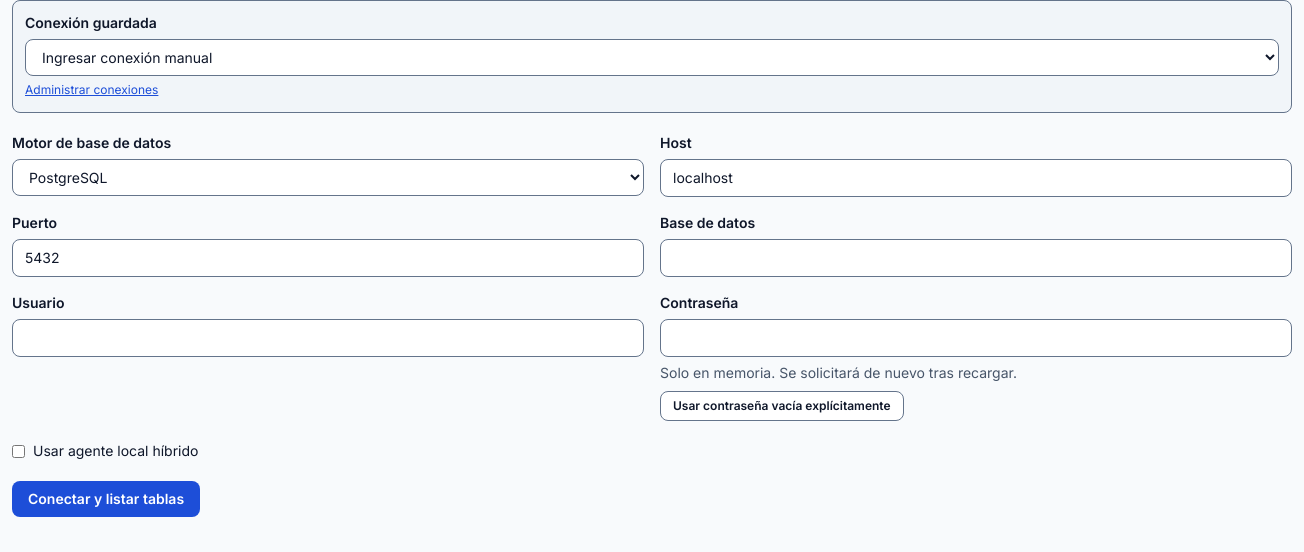
Test: saved connections and account boundaries › uses only a connection reference and bearer, without receiving a password
The width and height of the screenshot is (1304, 552).
Select "Origen registrado · postgresql" in the dropdown labelled "Conexión guardada" at (652, 58), box [25,39,1279,76]
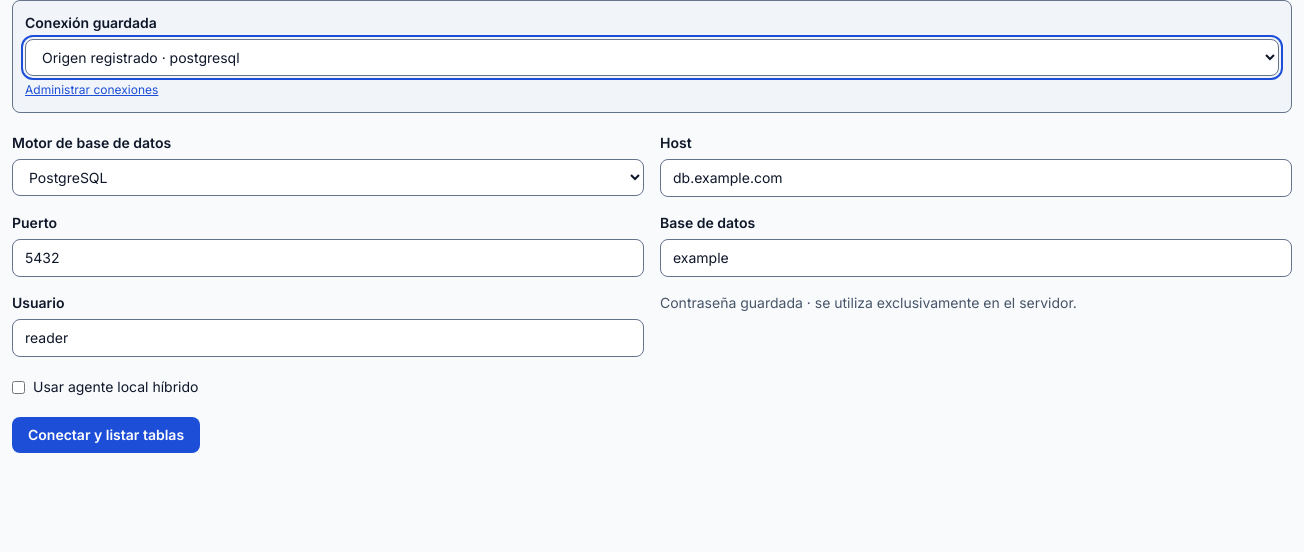
Click the button "Conectar y listar tablas" at (106, 435), box [12,417,200,453]
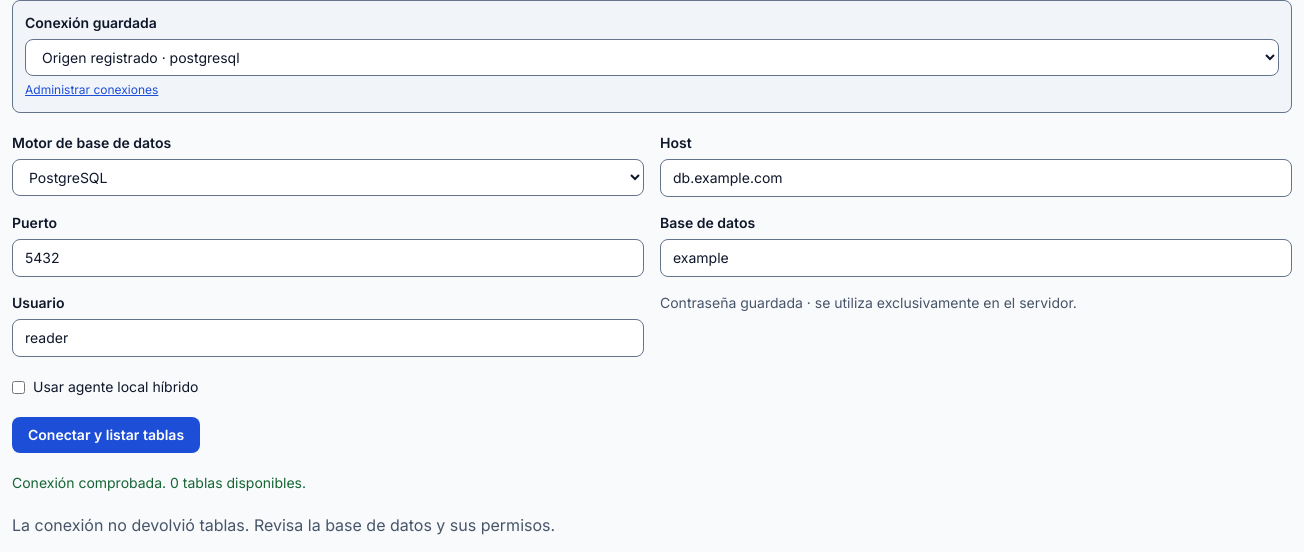
Expected: the text "Conexión comprobada. 0 tablas disponibles." is shown, [12,474,306,491]
